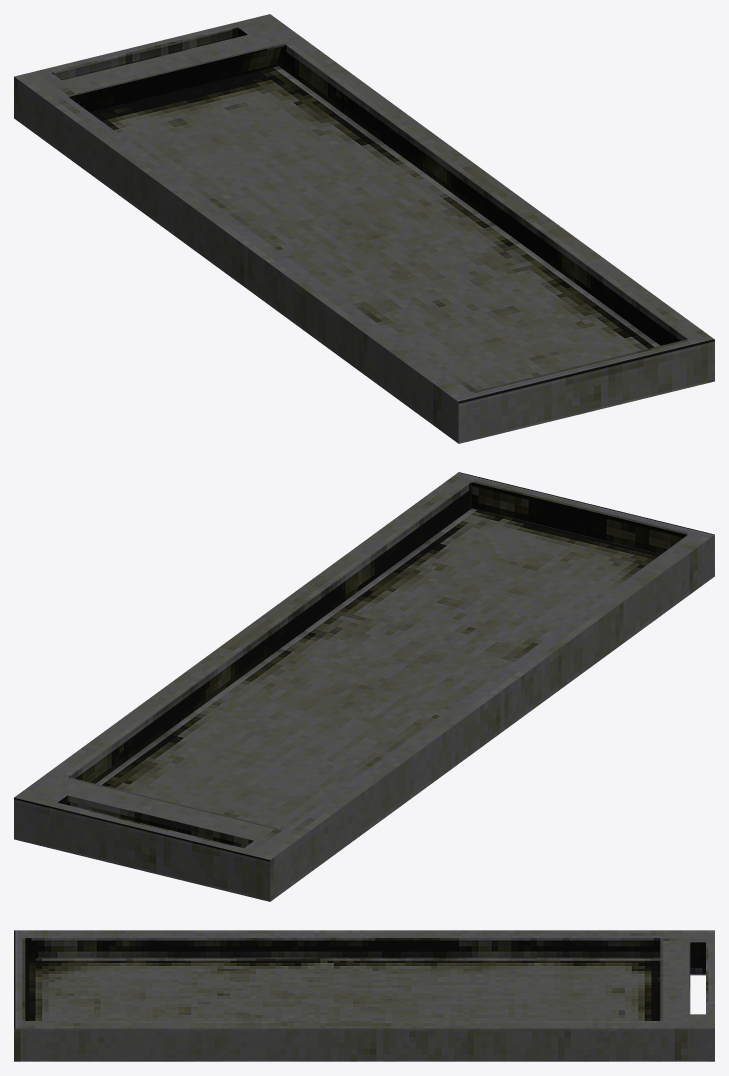
Rendered from SM_BodyTray.fbx.
The picture shows the model from 3 angles, top to bottom: view 1: azimuth 30°, elevation 25°; view 2: azimuth 150°, elevation 25°; view 3: azimuth 270°, elevation 25°; orthographic projection. The views are drawn at different scales.
Parts seen in each view (by area): view 1: SM_BodyTray; view 2: SM_BodyTray; view 3: SM_BodyTray.
Boxes of the visible parts, x1,y1,x2,y2 form: SM_BodyTray: (14,14,714,443); SM_BodyTray: (14,472,714,901); SM_BodyTray: (14,930,714,1061).
Size of the model in its own units: 66.51 by 10.38 by 200.
